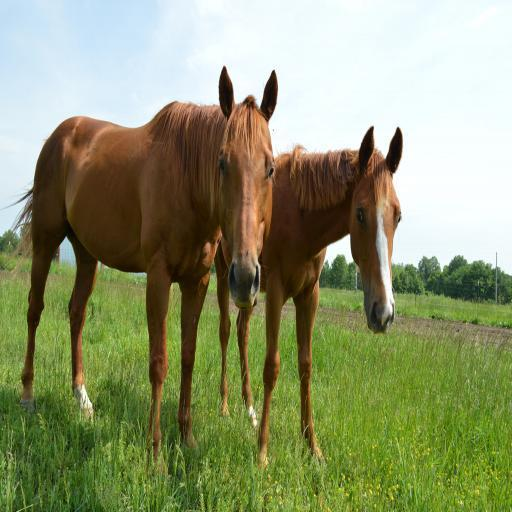horse: (2, 64, 280, 472), (212, 124, 402, 460)
